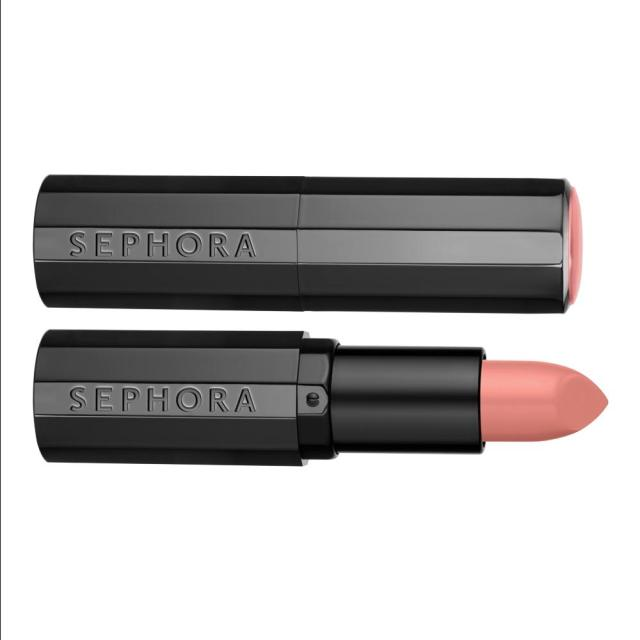lipstick: (15, 316, 612, 469), (26, 164, 583, 316)
